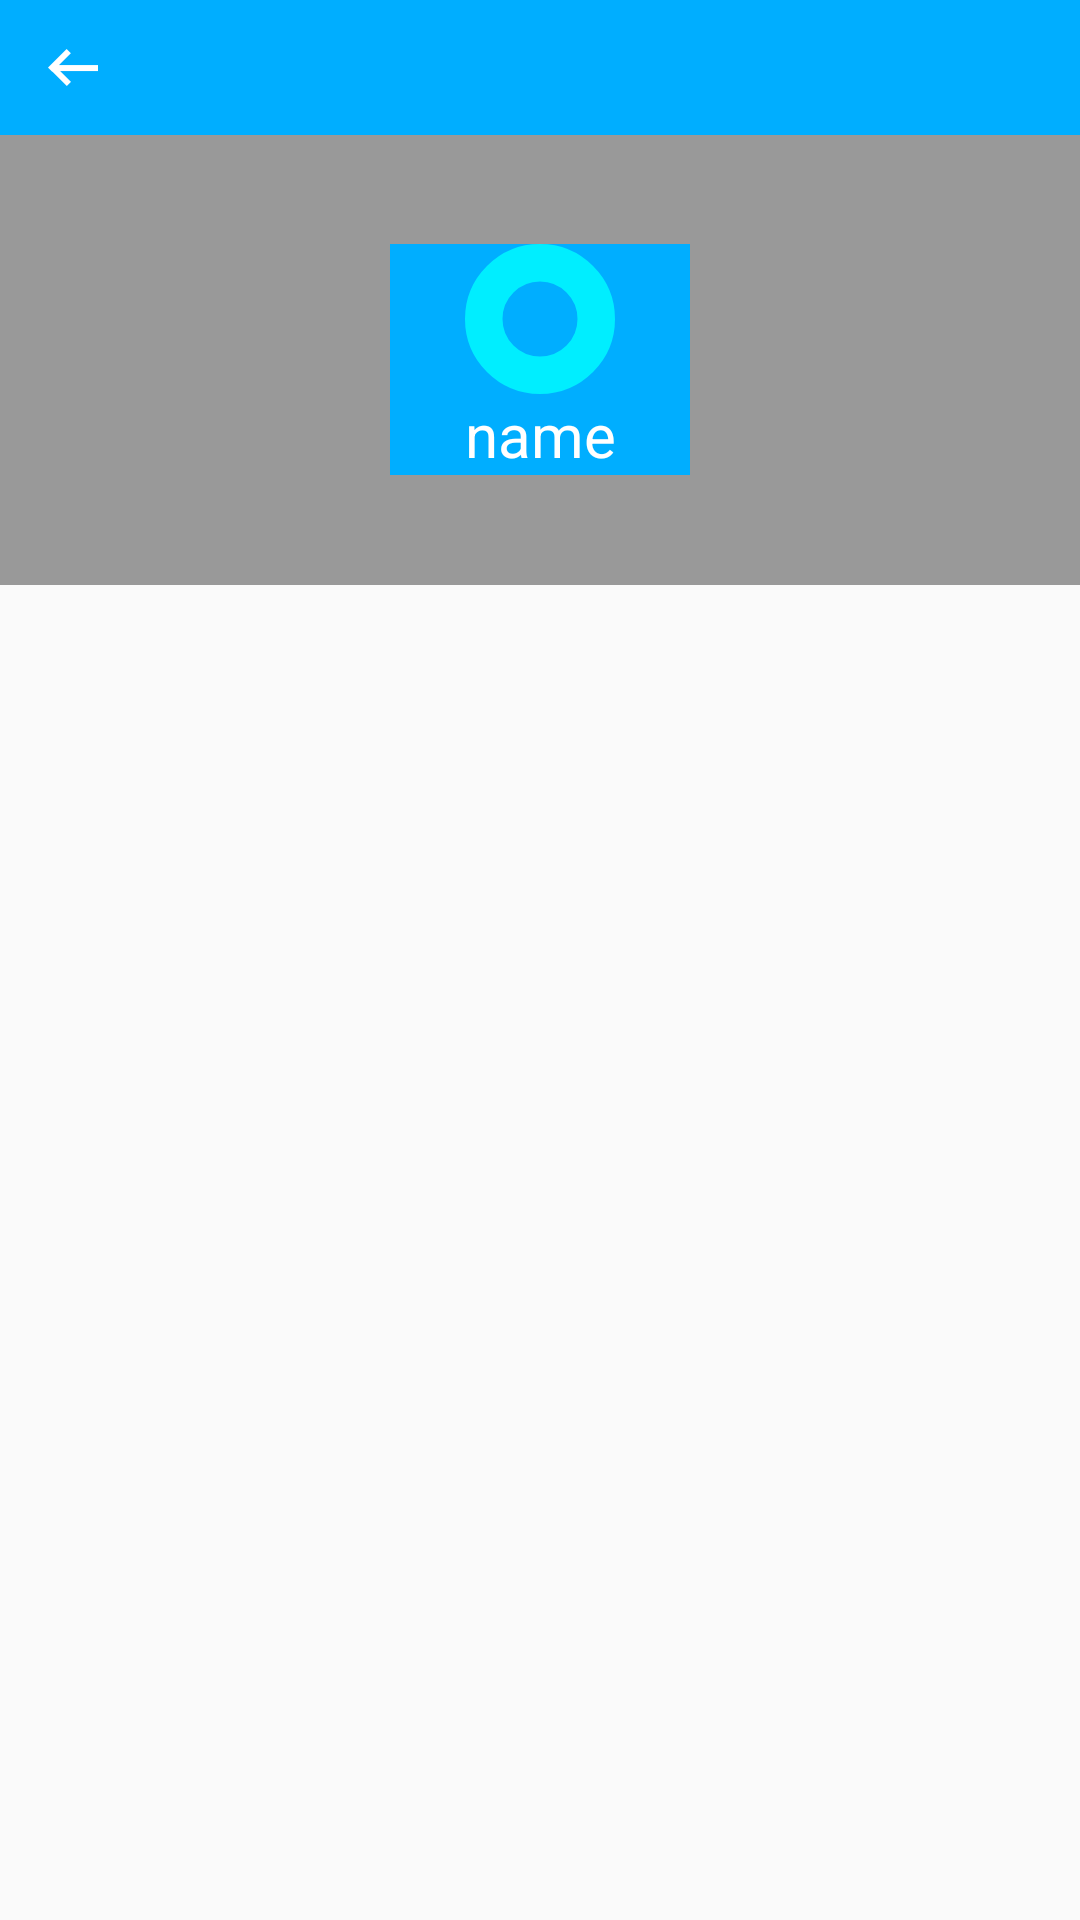

Point at icon controls on the screen. Image size 1080w x 1920h, points as (x=x, y=y).
back android: (x=73, y=67)
